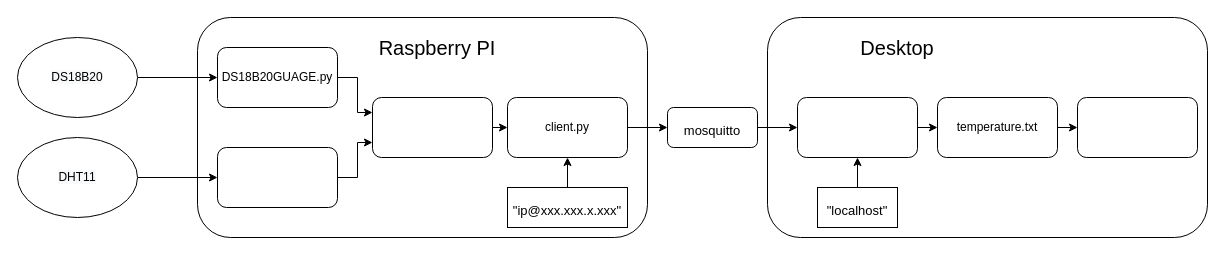
Some shapes in this 1225 by 255 pixel diagram are drawn without their labels. Each missing label, with the box of its shape:
_init_.py: (1076, 96, 1198, 158)
DHT11GUAGE.py: (216, 146, 338, 208)
server.py: (796, 96, 918, 158)
tempread.py: (372, 96, 492, 158)
